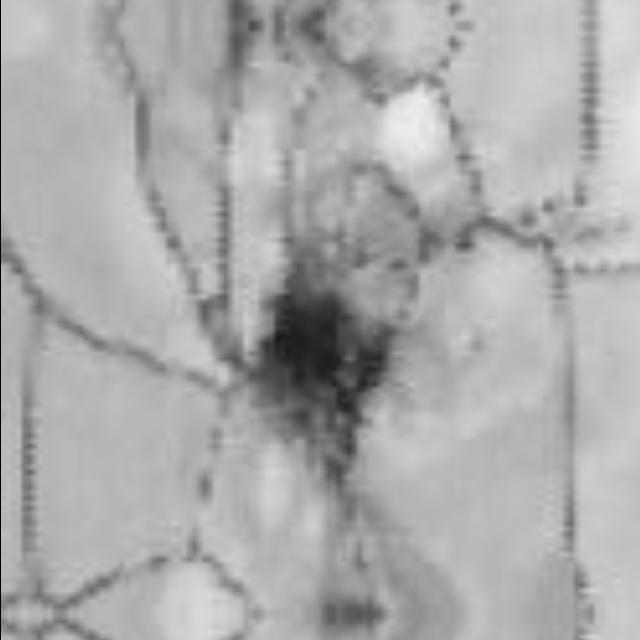good_void: (241, 239, 393, 493)
